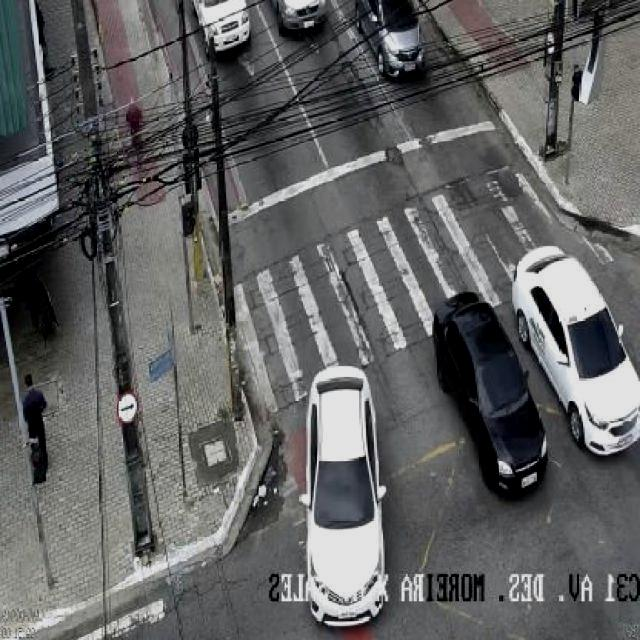Car: (504, 232, 640, 469), (289, 347, 392, 638), (429, 286, 548, 512), (355, 0, 418, 78), (177, 0, 266, 47), (270, 0, 340, 48)
